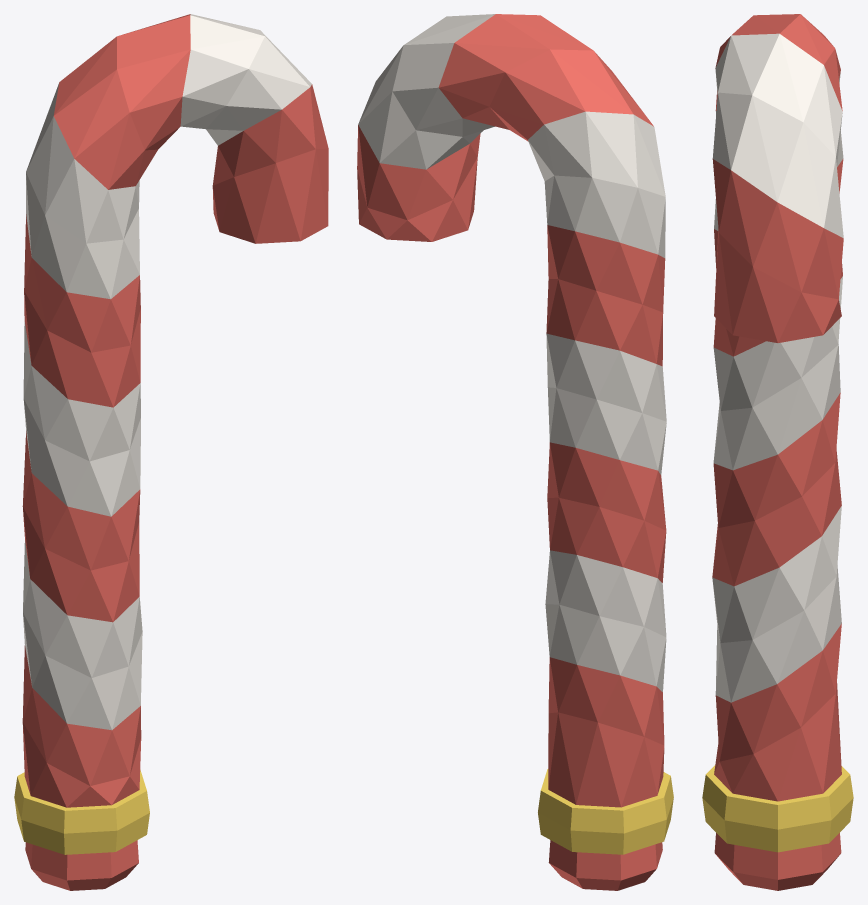
The model's file is GiantCane_lp.glb.
3 renders of one model, left to right at view 1: azimuth 30°, elevation 25°; view 2: azimuth 150°, elevation 25°; view 3: azimuth 270°, elevation 25°, orthographic. The views are drawn at different scales.
Visible parts, largest first — view 1: Red, White, Gold; view 2: Red, White, Gold; view 3: Red, White, Gold.
Part boxes in pixels (<box>): Red: <box>22,14,328,890</box>; White: <box>23,14,311,730</box>; Gold: <box>14,770,149,854</box>; Red: <box>357,14,666,890</box>; White: <box>358,14,666,691</box>; Gold: <box>538,769,673,854</box>; Red: <box>712,14,843,890</box>; White: <box>712,33,843,702</box>; Gold: <box>702,765,853,852</box>.
Size of the model in its own units: 3.03 by 8 by 1.23.
